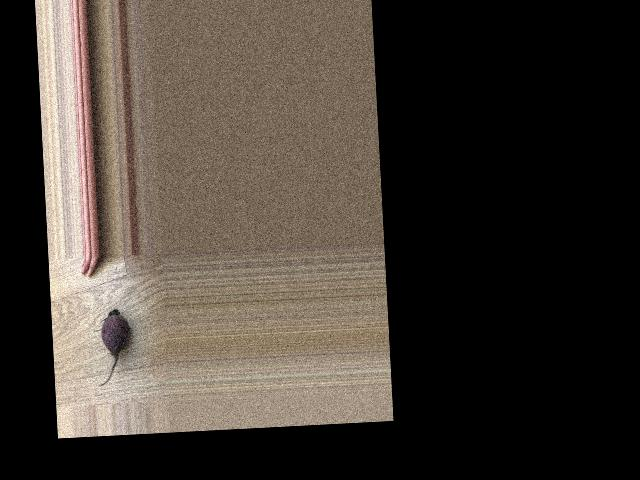beet: (93, 309, 132, 387)
